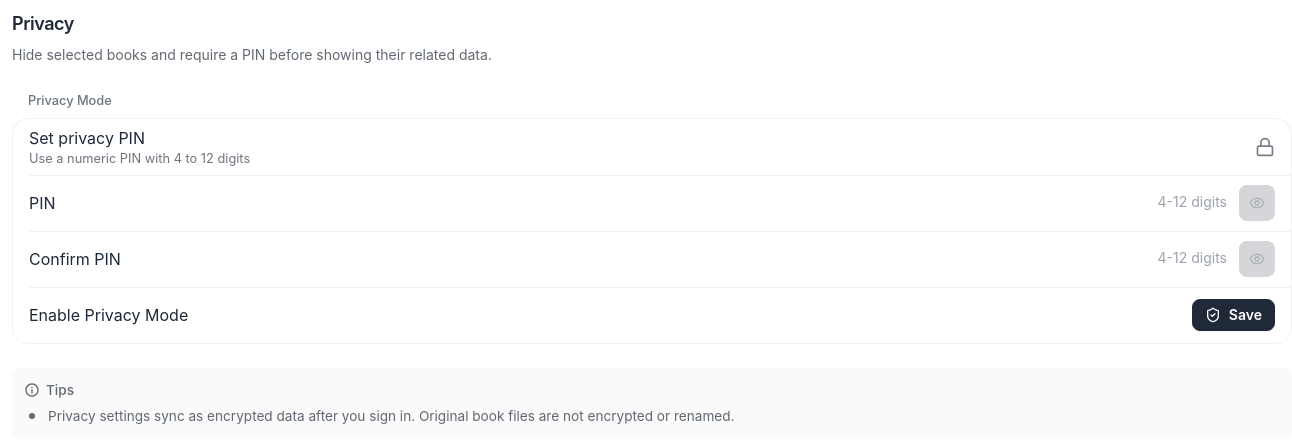
it: PrivacyPanel PIN input › focuses the invalid PIN and associates its inline error with the input
The image size is (1292, 445).
In the password field labelled "PIN": (1127, 203) [1019,185,1235,221], type "123"
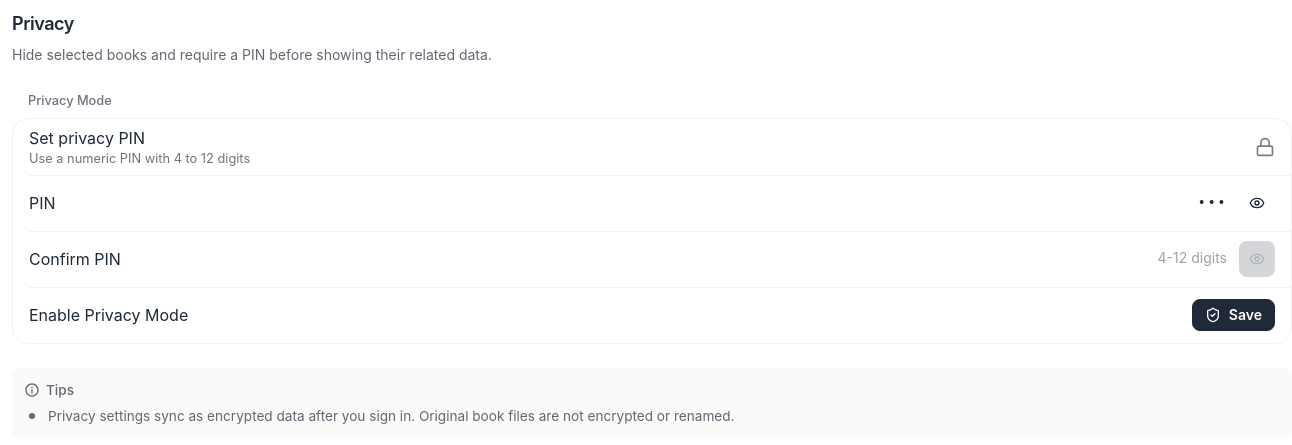
Click the button "Save": (1233, 315) [1192,299,1275,331]
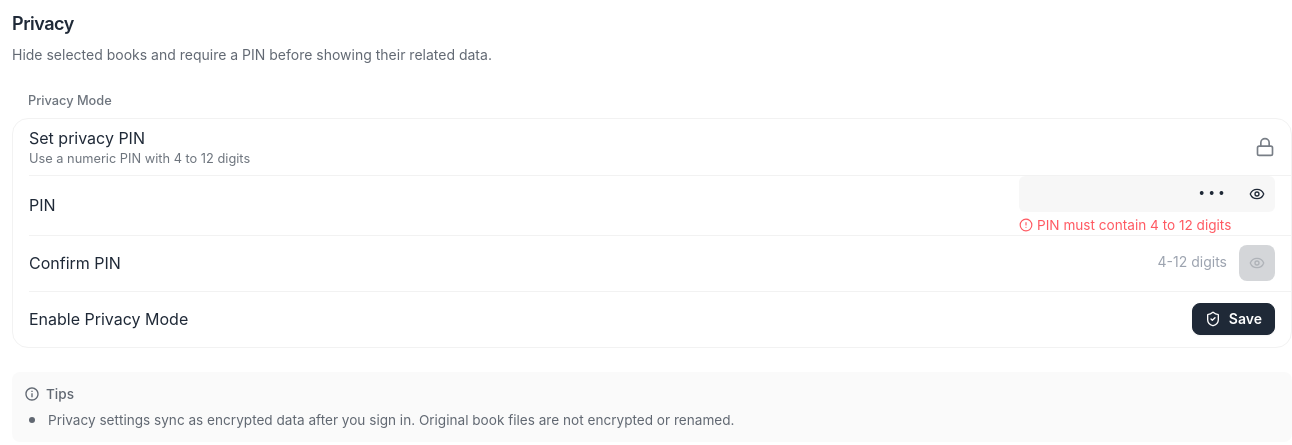
Result: the message reads "PIN must contain 4 to 12 digits" at [1037,217,1231,233]
